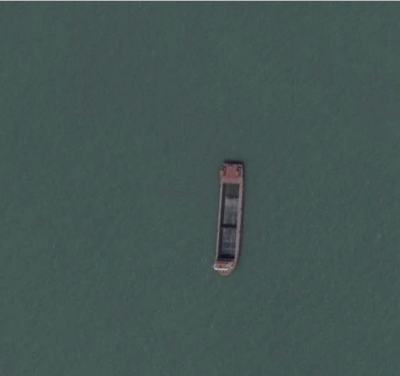boat: (213, 161, 247, 277)
